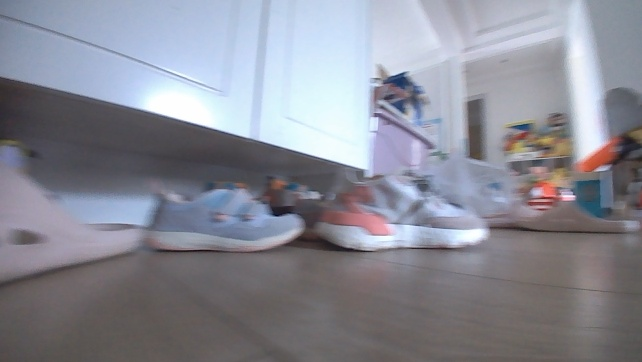shoe: (310, 175, 493, 254), (143, 184, 308, 256)
